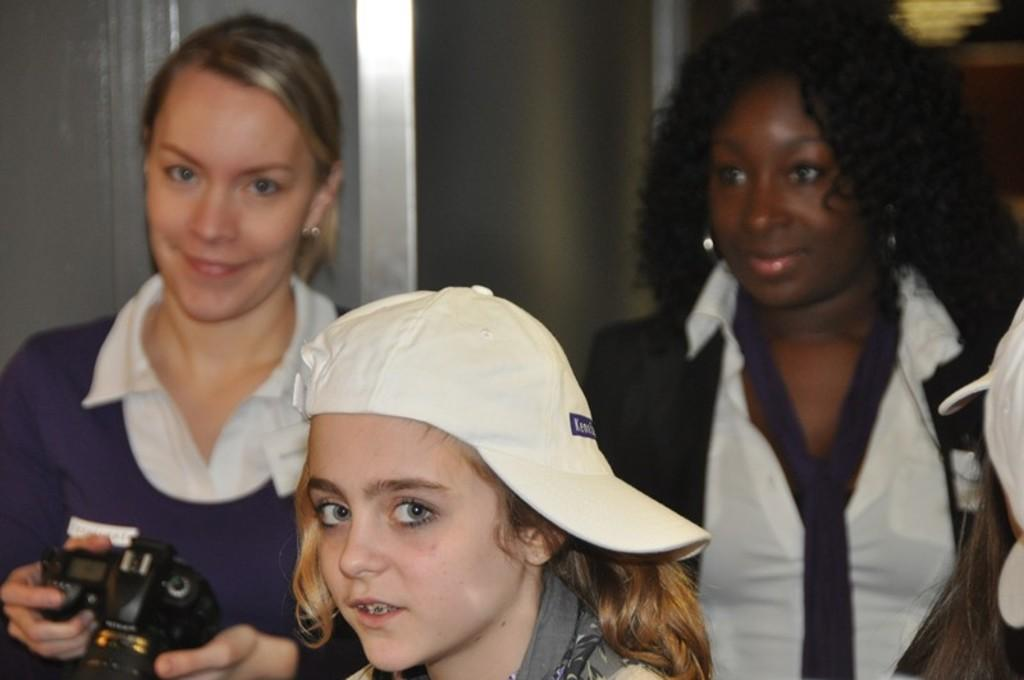Hat: (292, 280, 712, 563)
